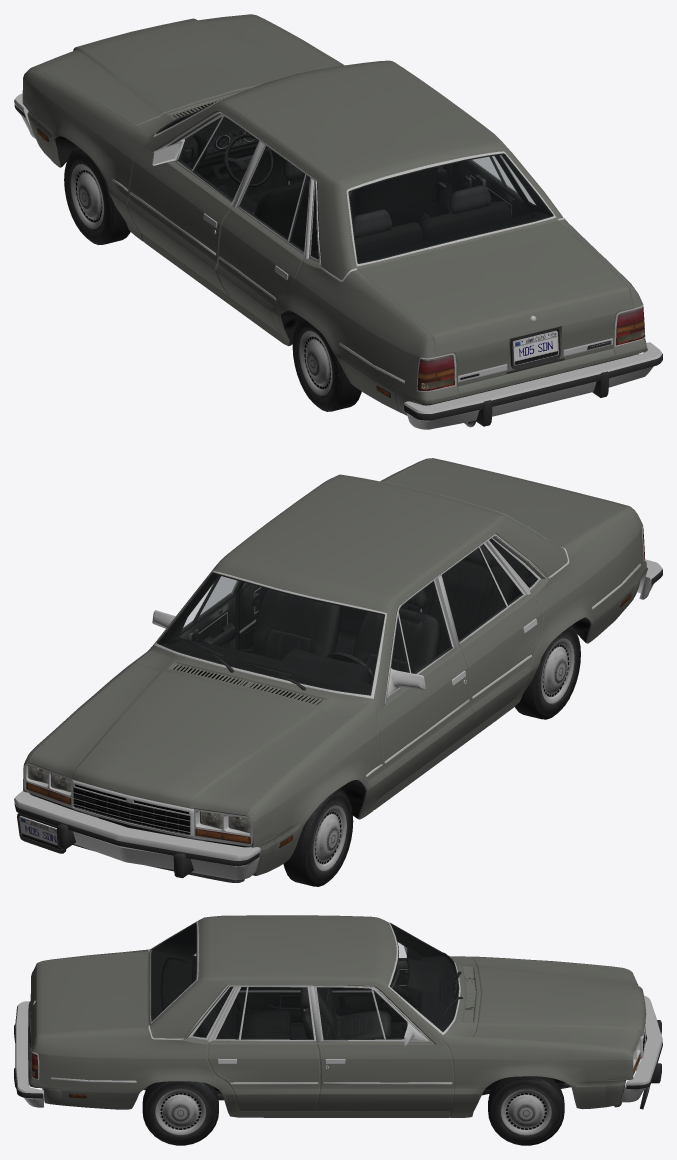
Rendered from fairheaven.glb.
3 renders of one model, top to bottom at view 1: azimuth 30°, elevation 25°; view 2: azimuth 150°, elevation 25°; view 3: azimuth 270°, elevation 25°, orthographic. The views are drawn at different scales.
Parts seen in each view (by area): view 1: body, wheel_FL, wheel_RL, steer; view 2: body, wheel_FL, wheel_RL, lamp_head_L; view 3: body, wheel_FR, wheel_RR.
Part boxes in pixels (<box>): body: <box>14,14,662,429</box>; wheel_FL: <box>64,147,130,244</box>; wheel_RL: <box>292,317,361,411</box>; steer: <box>224,133,273,187</box>; body: <box>14,458,662,882</box>; wheel_FL: <box>283,789,353,886</box>; wheel_RL: <box>515,625,580,719</box>; lamp_head_L: <box>200,811,250,832</box>; body: <box>14,915,662,1117</box>; wheel_FR: <box>488,1076,564,1145</box>; wheel_RR: <box>142,1081,218,1145</box>.
Bounding box in the file's own units: 1.83 × 1.35 × 4.98.
Materials: 15 (14 with a texture image).
